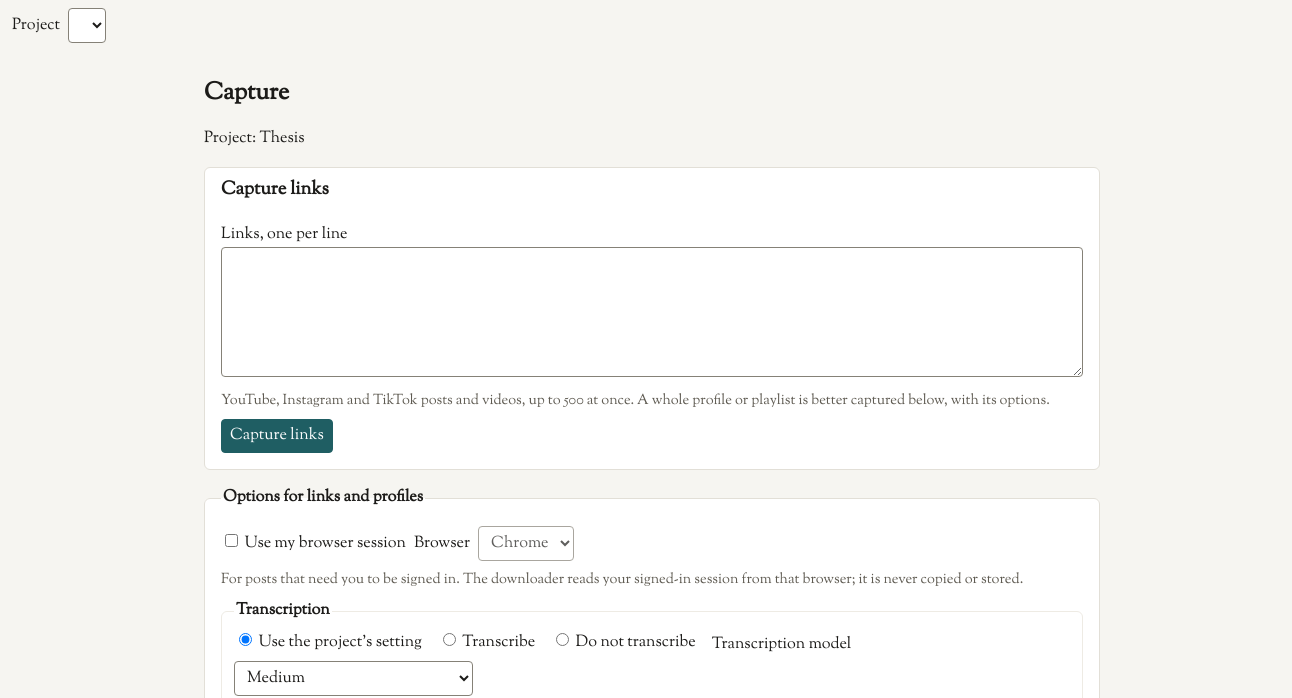
Capture route: the list of projects with a project in the address (FR-756, R605 I1) › a list given up at the limit leaves the working Capture screen as it was: links being typed are not lost, and nothing says the project is not one of the library
Expected: the text "Thesis" is shown, top-left (260, 127), bottom-right (305, 150)
Click the text box labelled "Links, one per line" at (652, 312), box top-left (221, 247), bottom-right (1083, 377)
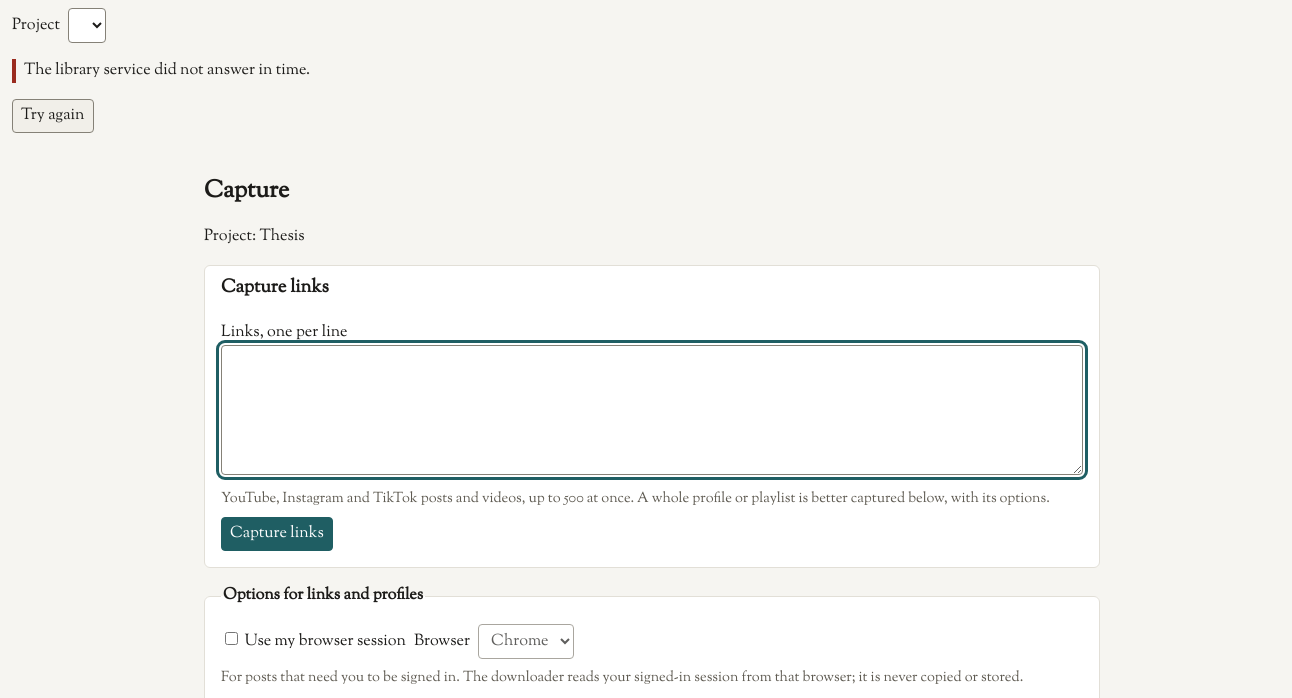
Type keys "https://example.org/a"
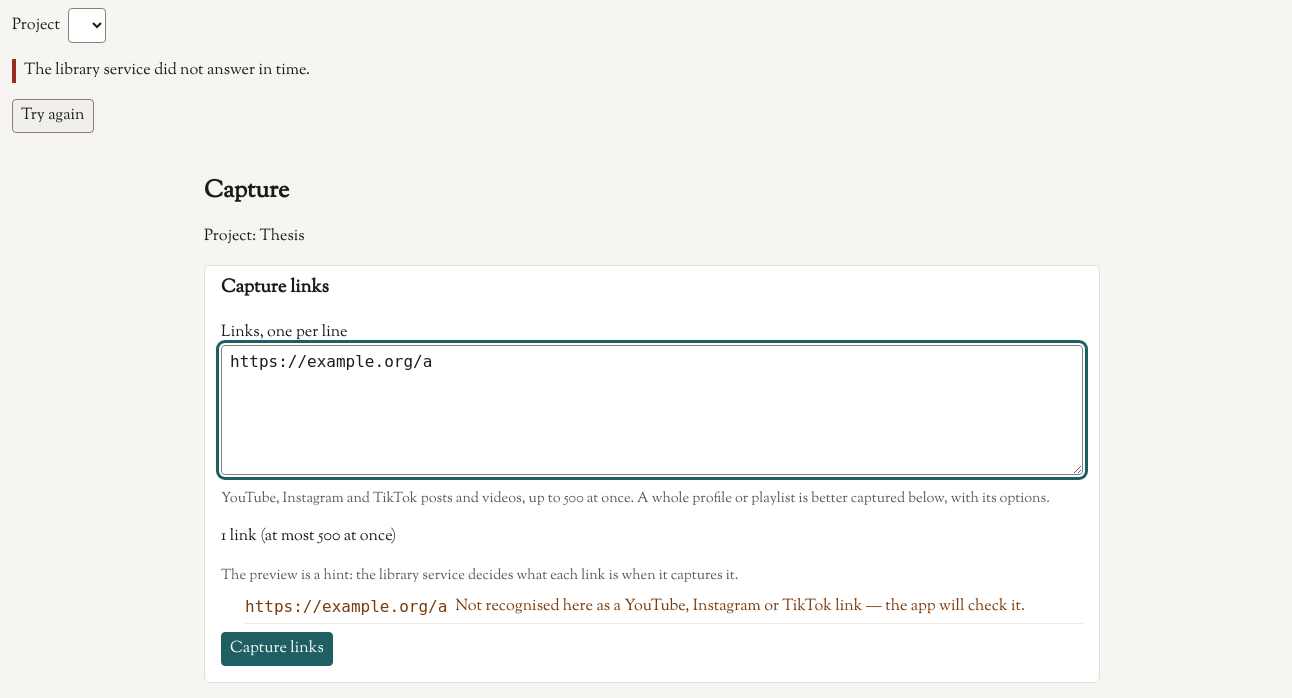
Expected: the heading "Capture" is shown, top-left (204, 174), bottom-right (289, 208)
Expected: the number of buttons "Try again" is 1, top-left (12, 99), bottom-right (94, 133)
Expected: the text box labelled "Links, one per line" holds "https://example.org/a", top-left (221, 345), bottom-right (1083, 475)
